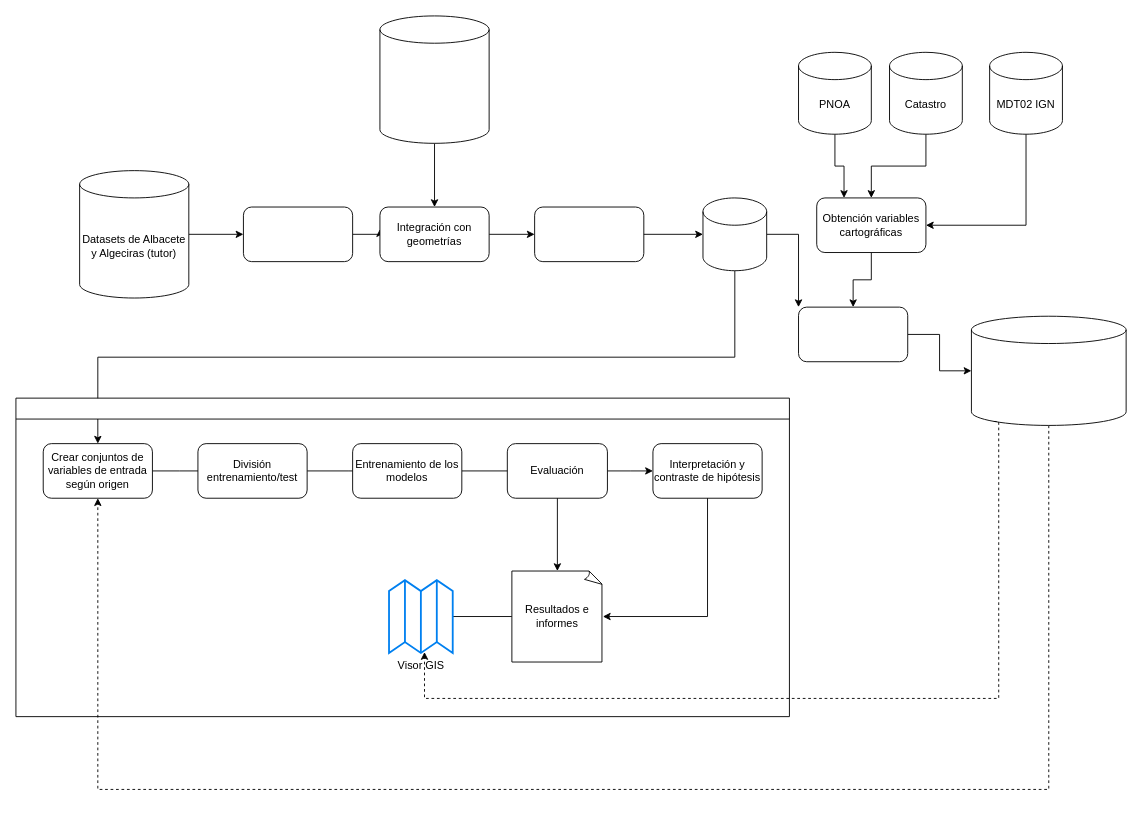
Image size: 1142x813. Some labels were removed from this diagram. The centre of each missing label's shape, as x and y in pixels:
Conjunto unificado de datos: the point at 734,234
Datos unificados con variables recuperadas del cartografía pública: the point at 1048,370
Geometrías calles y barrios: the point at 434,79
Limpieza de datos: the point at 298,234
Modelado y evaluación: the point at 402,557
Normalización y unificación de conjuntos: the point at 589,234
Unificación: the point at 853,334
